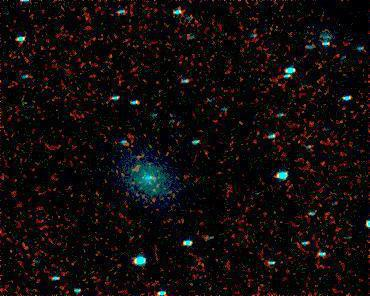star: (138, 174, 168, 204)
